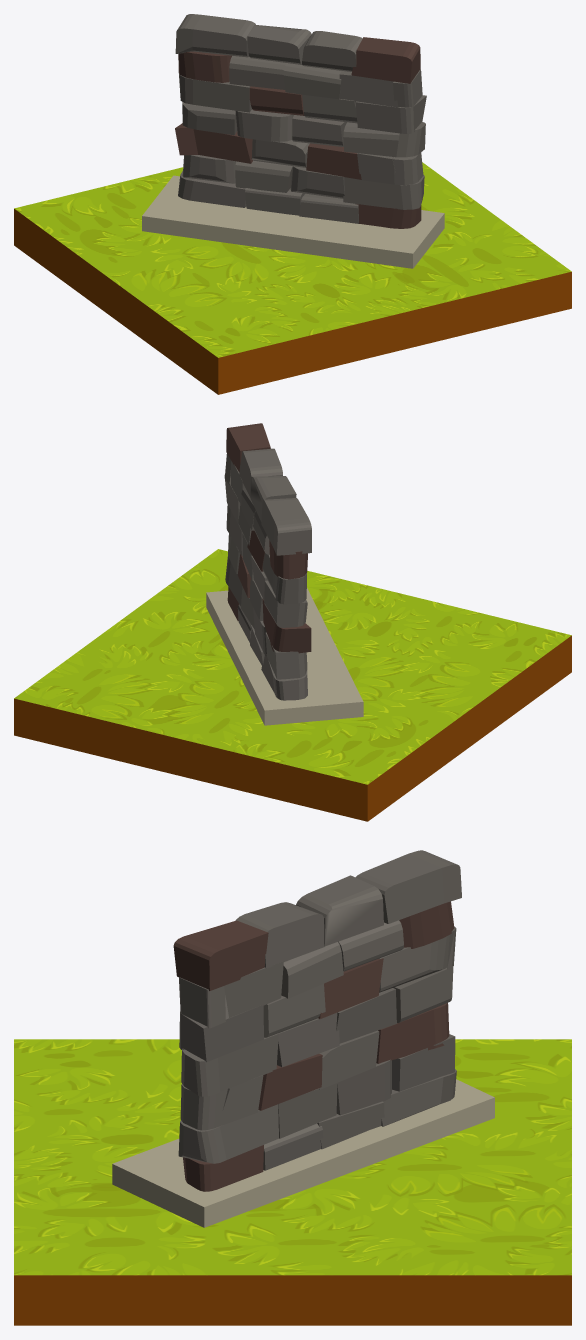
Rendered from tile0081.gltf.
3 renders of one model, top to bottom at view 1: azimuth 30°, elevation 25°; view 2: azimuth 150°, elevation 25°; view 3: azimuth 270°, elevation 25°, orthographic. The views are drawn at different scales.
Parts seen in each view (by area): view 1: Cube.002, Cube, Cube.001; view 2: Cube.002, Cube, Cube.001; view 3: Cube.002, Cube, Cube.001.
Boxes of the visible parts, left/top/right/bottom form: Cube.002: left=14, top=162, right=571, bottom=394; Cube: left=175, top=14, right=426, bottom=228; Cube.001: left=142, top=175, right=444, bottom=268; Cube.002: left=14, top=549, right=571, bottom=821; Cube: left=224, top=423, right=311, bottom=700; Cube.001: left=206, top=588, right=363, bottom=725; Cube.002: left=14, top=1039, right=571, bottom=1325; Cube: left=173, top=850, right=461, bottom=1191; Cube.001: left=112, top=1079, right=494, bottom=1227.
Size of the model in its own units: 2 by 1.26 by 2.
Materials: 5 (1 with a texture image).
